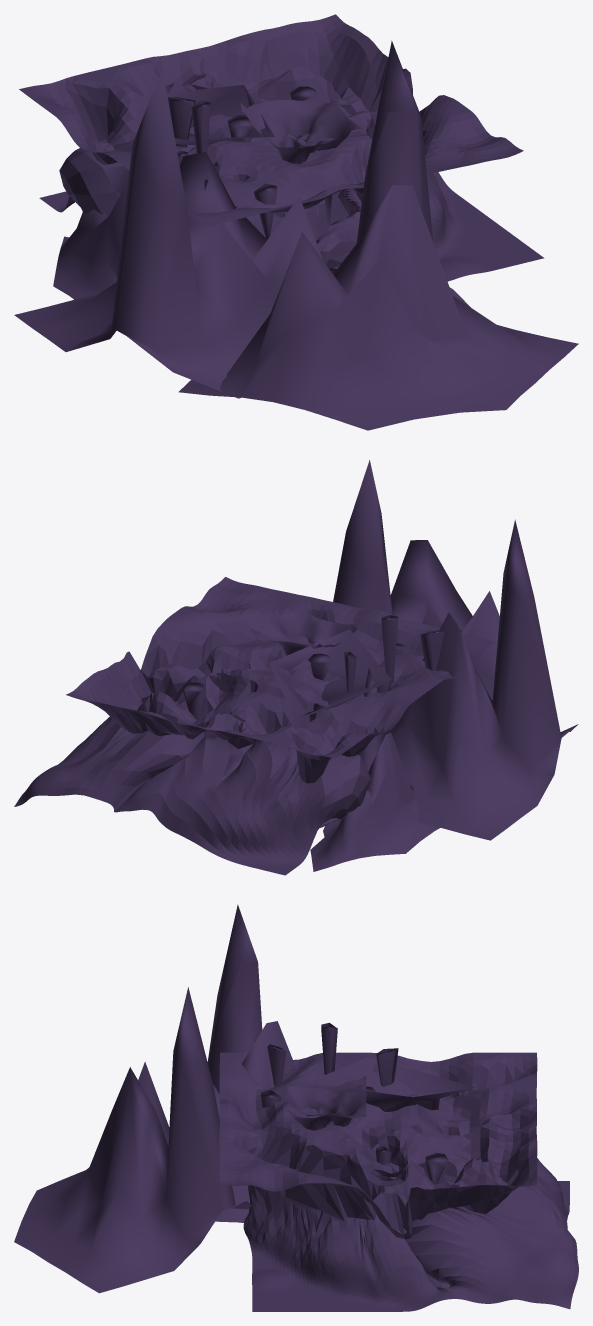
Rendered from PurpleCaveComplete.fbx.
The picture shows the model from 3 angles, top to bottom: view 1: azimuth 30°, elevation 25°; view 2: azimuth 150°, elevation 25°; view 3: azimuth 270°, elevation 25°; orthographic projection. The views are drawn at different scales.
Visible parts, largest first — view 1: polySurface1; view 2: polySurface1; view 3: polySurface1.
Part boxes in pixels (left/top/right/bottom): polySurface1: left=14, top=14, right=578, bottom=430; polySurface1: left=14, top=460, right=578, bottom=875; polySurface1: left=14, top=904, right=578, bottom=1311.
Bounding box in the file's own units: 970 × 630 × 1232.
